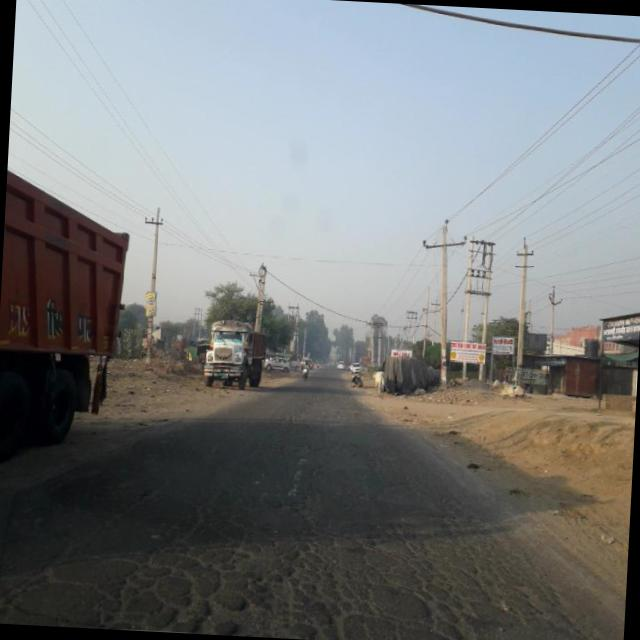crack: (0, 473, 600, 640)
